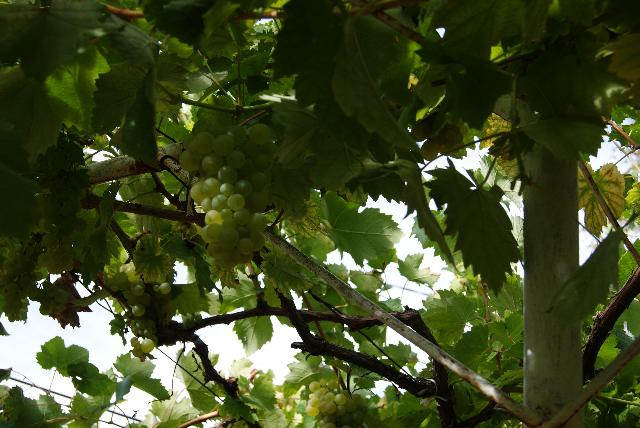grapes: (180, 124, 276, 270)
